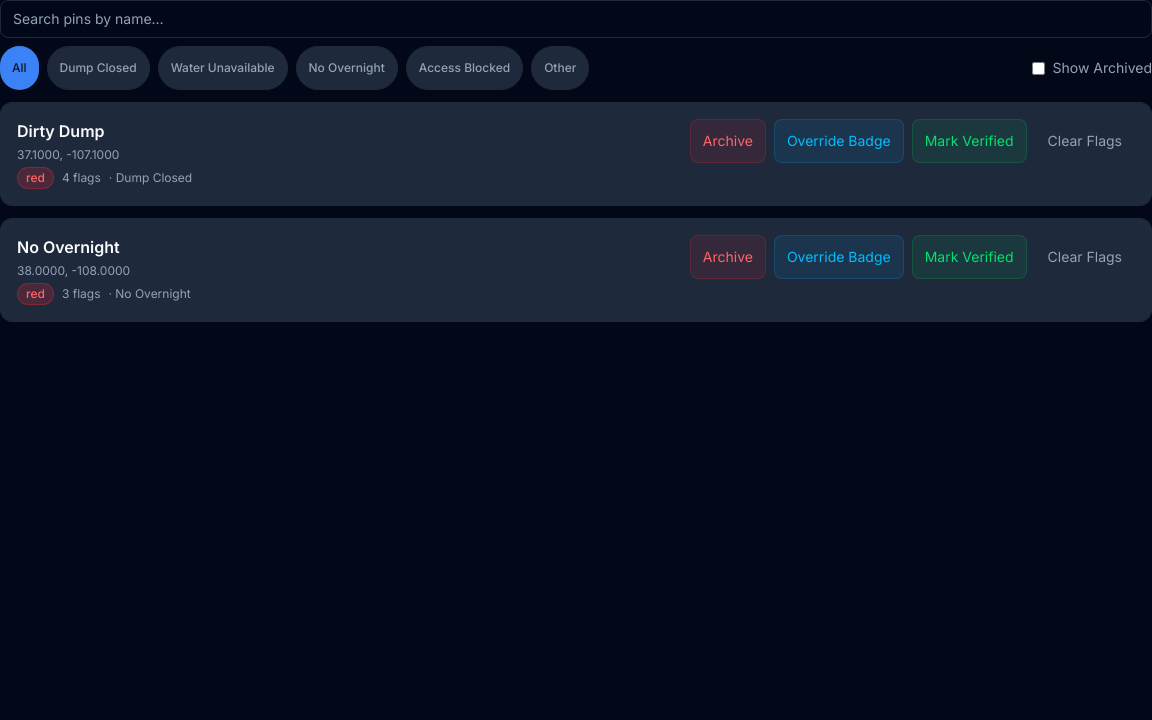
Test: FlaggedPinList › clicking "Override Badge" opens BadgeOverrideDialog
Expected: the text "Dirty Dump" is shown, [17, 121, 105, 141]
Click the button "Override Badge" in the row of "-107.1000" at (839, 141), box [774, 119, 904, 163]
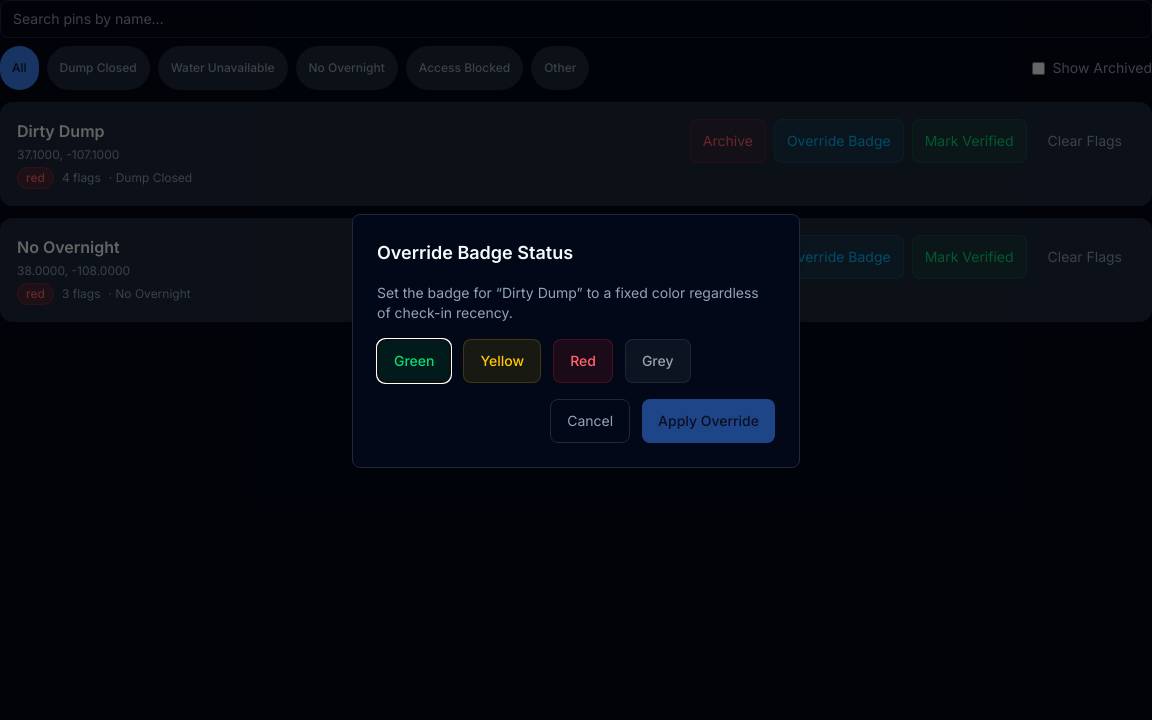
Expected: the heading "Override Badge Status" is shown, [377, 242, 573, 263]
